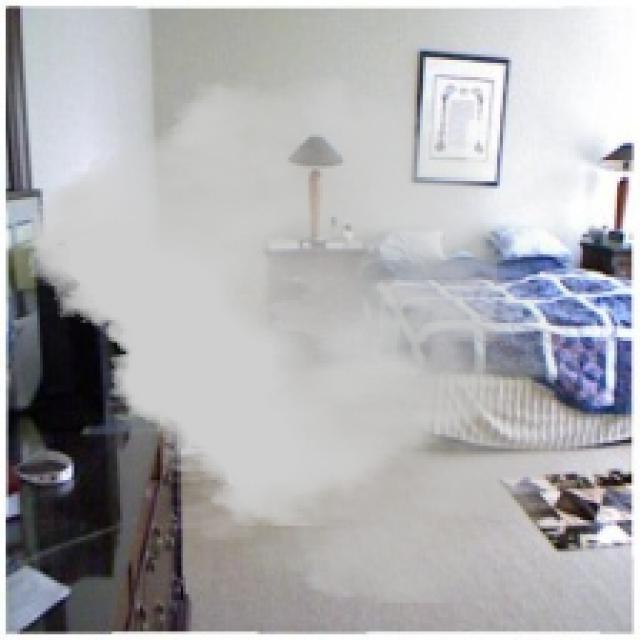Smoke: (29, 74, 598, 603)
